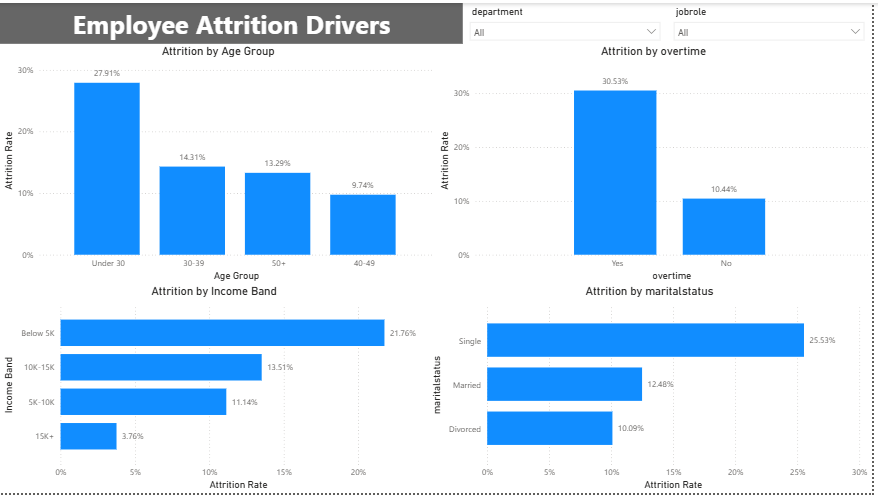

What the dashboard file says about the page in this screenshot:
{"tool":"powerbi","page":{"name":"Attrition Drivers","canvas":[1280,720],"ordinal":1},"visuals":[{"type":"clusteredColumnChart","title":"Attrition by Age Group","fields":{"Y":["Measure.Attrition Rate"],"Category":["dim_employee.Age Group"]},"box":[0,60.2,640.7,352.7],"z":0},{"type":"clusteredBarChart","title":"Attrition by Income Band","fields":{"Category":["fact_employee_attrition.Income Band"],"Y":["Measure.Attrition Rate"]},"box":[0,412.9,628.9,307.1],"z":1},{"type":"clusteredBarChart","title":"Attrition by maritalstatus","fields":{"Category":["dim_employee.maritalstatus"],"Y":["Measure.Attrition Rate"]},"box":[628.9,412.9,650.9,307.1],"z":2},{"type":"clusteredColumnChart","title":"Attrition by overtime","fields":{"Category":["fact_employee_attrition.overtime"],"Y":["Measure.Attrition Rate"]},"box":[640.7,60.2,639.2,352.7],"z":3},{"type":"slicer","fields":{"Values":["dim_jobrole.jobrole"]},"box":[980.1,0,299.8,60.2],"z":4},{"type":"textbox","box":[0,0,680.3,60.2],"z":5},{"type":"slicer","fields":{"Values":["dim_department.department"]},"box":[680.3,0,299.8,60.2],"z":6}]}

Visuals, with their boxes in screenshot pixels (x1, y1, x2, y2), scaled from the page's 1280x720 canvas onto the 878x495 screenshot:
"Attrition by Age Group" clusteredColumnChart: box(0, 41, 439, 284)
"Attrition by Income Band" clusteredBarChart: box(0, 284, 431, 494)
"Attrition by maritalstatus" clusteredBarChart: box(431, 284, 877, 494)
"Attrition by overtime" clusteredColumnChart: box(439, 41, 877, 284)
slicer - dim_jobrole.jobrole: box(672, 0, 877, 41)
textbox: box(0, 0, 467, 41)
slicer - dim_department.department: box(467, 0, 672, 41)
